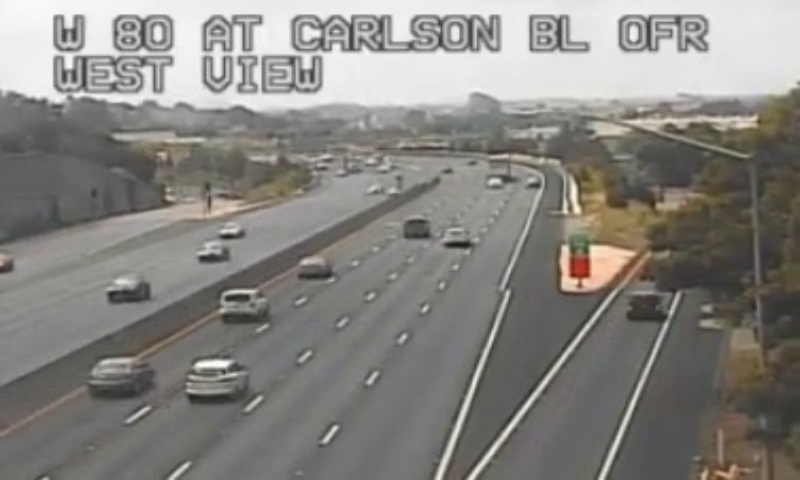car: (185, 359, 248, 396), (89, 355, 151, 391), (219, 288, 265, 319), (297, 256, 329, 277), (402, 216, 429, 236), (440, 227, 468, 245)
